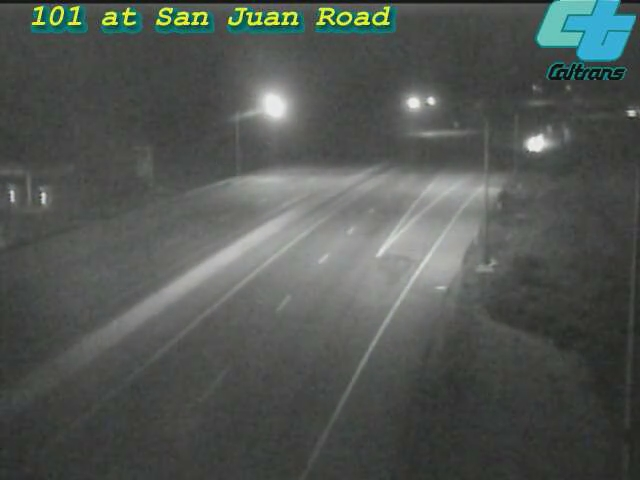vehicle: (510, 121, 560, 171), (607, 87, 640, 137)
